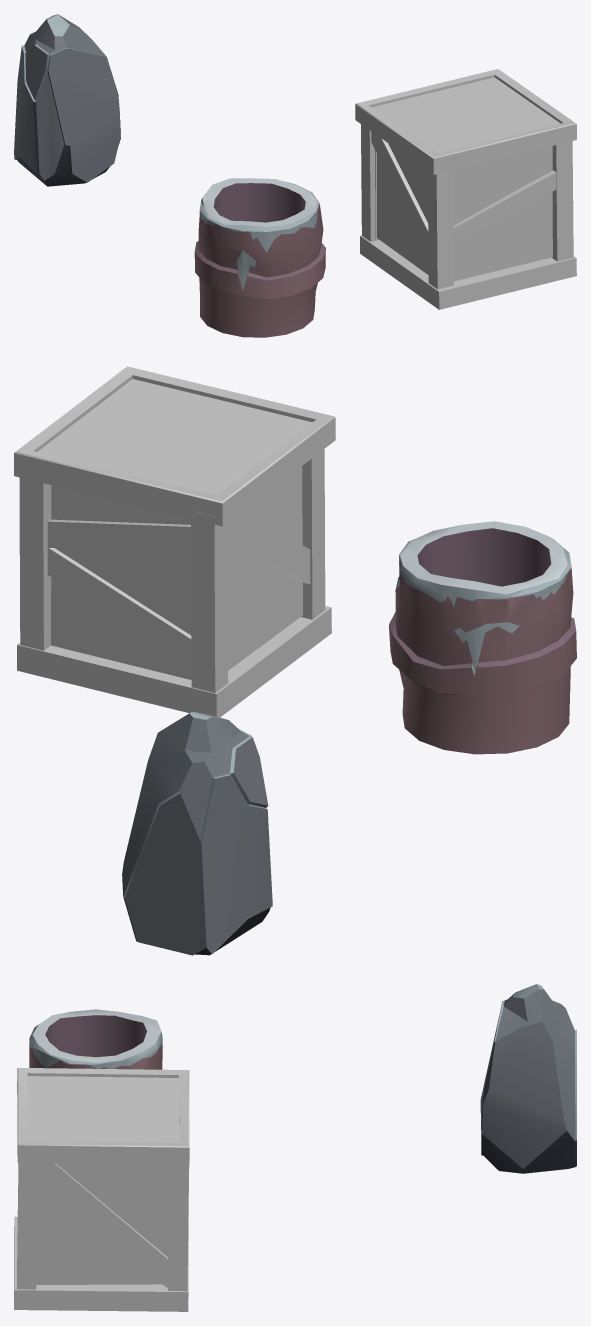
Rendered from Demo_Assets.fbx.
3 renders of one model, top to bottom at view 1: azimuth 30°, elevation 25°; view 2: azimuth 150°, elevation 25°; view 3: azimuth 270°, elevation 25°, orthographic. The views are drawn at different scales.
Visible parts, largest first — view 1: BoxBlock_01, ChimneyBlock_01, Rock_01; view 2: BoxBlock_01, ChimneyBlock_01, Rock_01; view 3: BoxBlock_01, Rock_01, ChimneyBlock_01.
Part boxes in pixels (bbox=[...]): BoxBlock_01: bbox=[355, 69, 576, 309]; ChimneyBlock_01: bbox=[194, 178, 325, 337]; Rock_01: bbox=[14, 14, 120, 186]; BoxBlock_01: bbox=[14, 366, 335, 717]; ChimneyBlock_01: bbox=[389, 521, 576, 754]; Rock_01: bbox=[122, 712, 272, 955]; BoxBlock_01: bbox=[14, 1068, 189, 1311]; Rock_01: bbox=[480, 984, 576, 1173]; ChimneyBlock_01: bbox=[29, 1009, 162, 1069].
Size of the model in its own units: 6.44 by 2.87 by 8.45.
